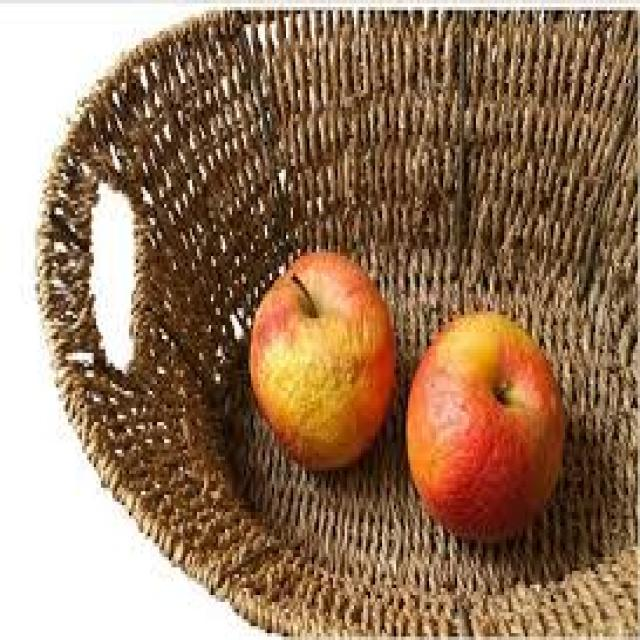biodegradable: (403, 308, 563, 543), (246, 249, 394, 474)
